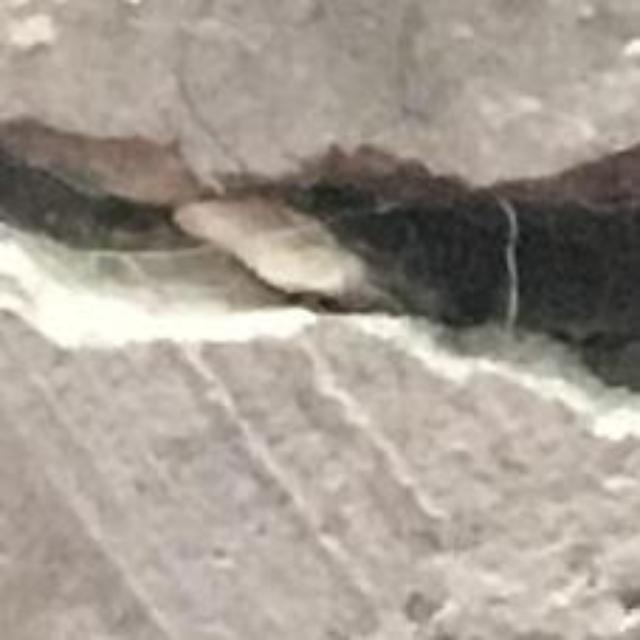crack: (0, 122, 639, 434)
